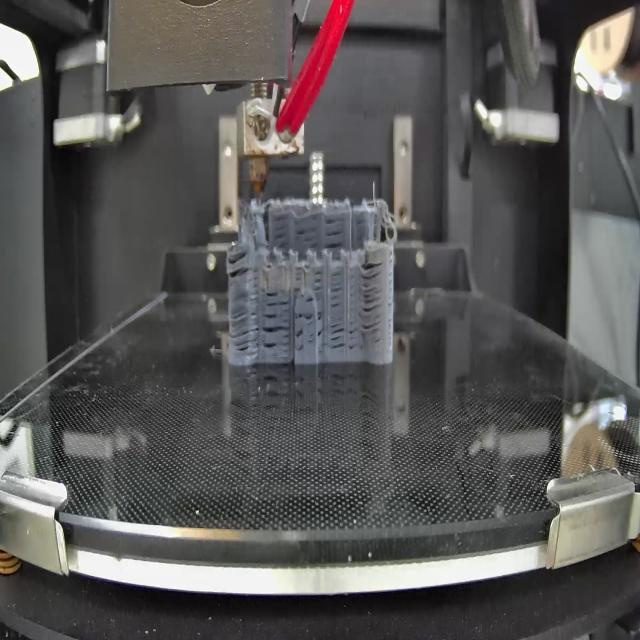cracks: (230, 294, 260, 354), (361, 260, 381, 337), (262, 310, 290, 354), (330, 315, 358, 353), (296, 217, 320, 252), (228, 245, 252, 279), (326, 214, 346, 250), (272, 212, 290, 248), (330, 267, 344, 311), (267, 283, 289, 310), (317, 308, 326, 354), (295, 325, 306, 355), (294, 263, 303, 293), (314, 267, 324, 292), (296, 309, 313, 320), (306, 296, 314, 305)
